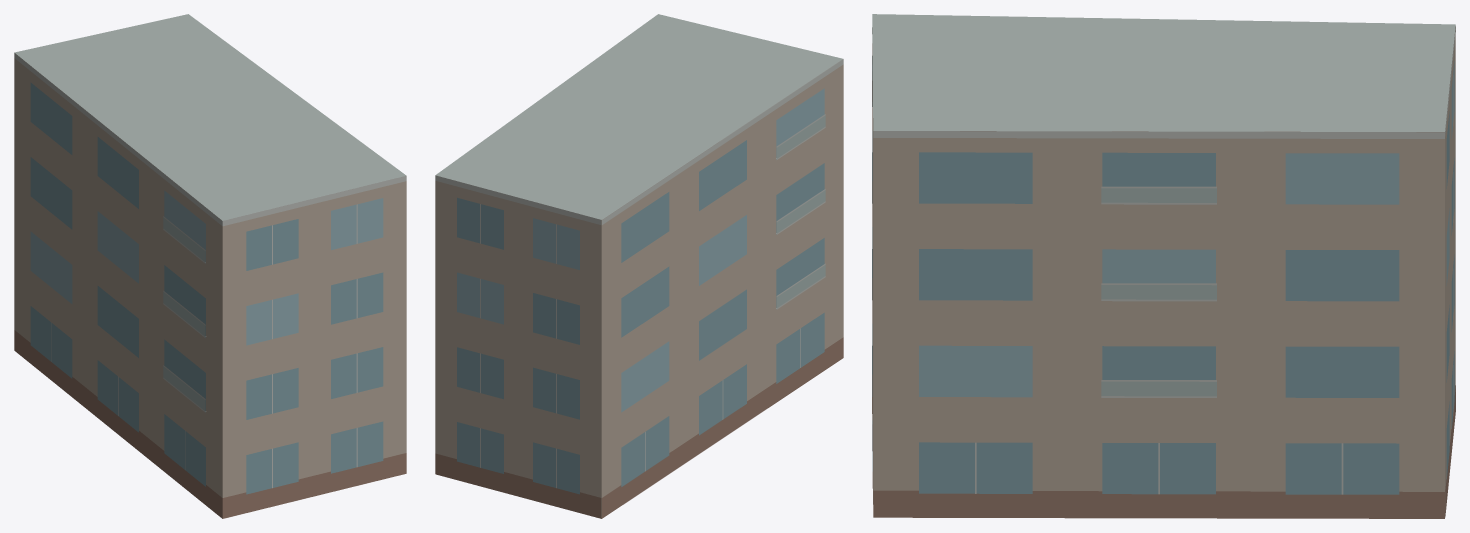
File: survey-upis-33042964.glb
The picture shows the model from 3 angles, left to right: view 1: azimuth 30°, elevation 25°; view 2: azimuth 150°, elevation 25°; view 3: azimuth 270°, elevation 25°; orthographic projection. The views are drawn at different scales.
Parts seen in each view (by area): view 1: survey-upis-33042964.tmp; view 2: survey-upis-33042964.tmp; view 3: survey-upis-33042964.tmp.
Boxes of the visible parts, x1=… form: survey-upis-33042964.tmp: x1=14, y1=14, x2=406, y2=518; survey-upis-33042964.tmp: x1=435, y1=14, x2=843, y2=518; survey-upis-33042964.tmp: x1=872, y1=14, x2=1455, y2=518.
Bounding box in the file's own units: 8.85 × 13.5 × 18.47.
